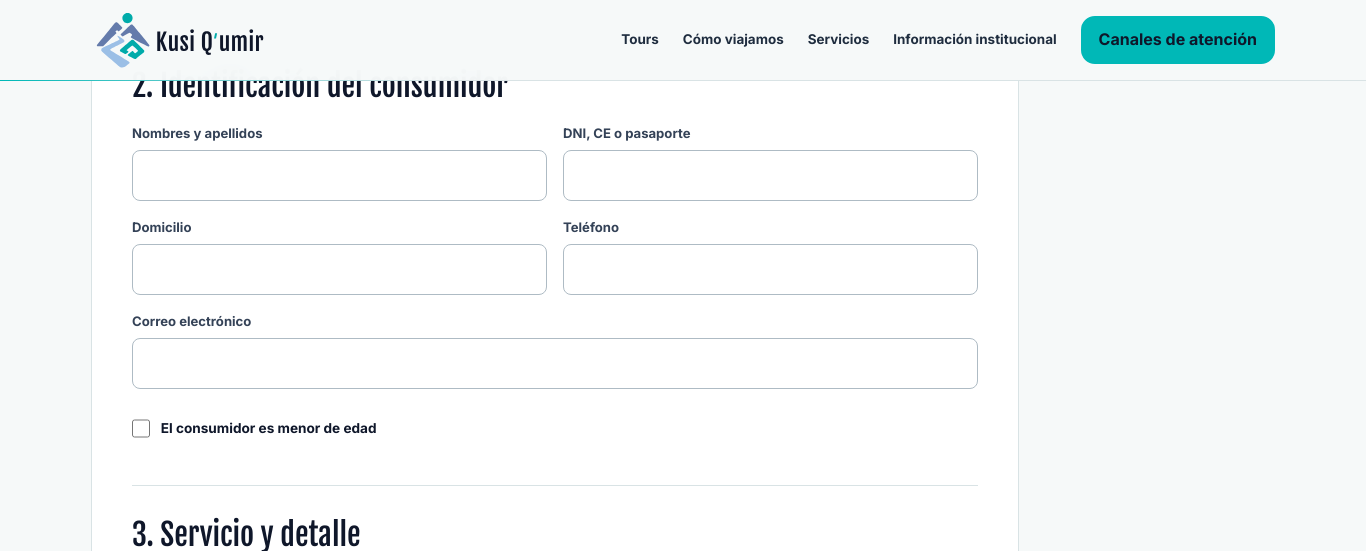
ClaimsComponent › requires a guardian when the consumer is a minor
(page scrolled)
Click the checkbox named "menorEdad" at (141, 428), box left=132, top=419, right=150, bottom=438
(page scrolled)
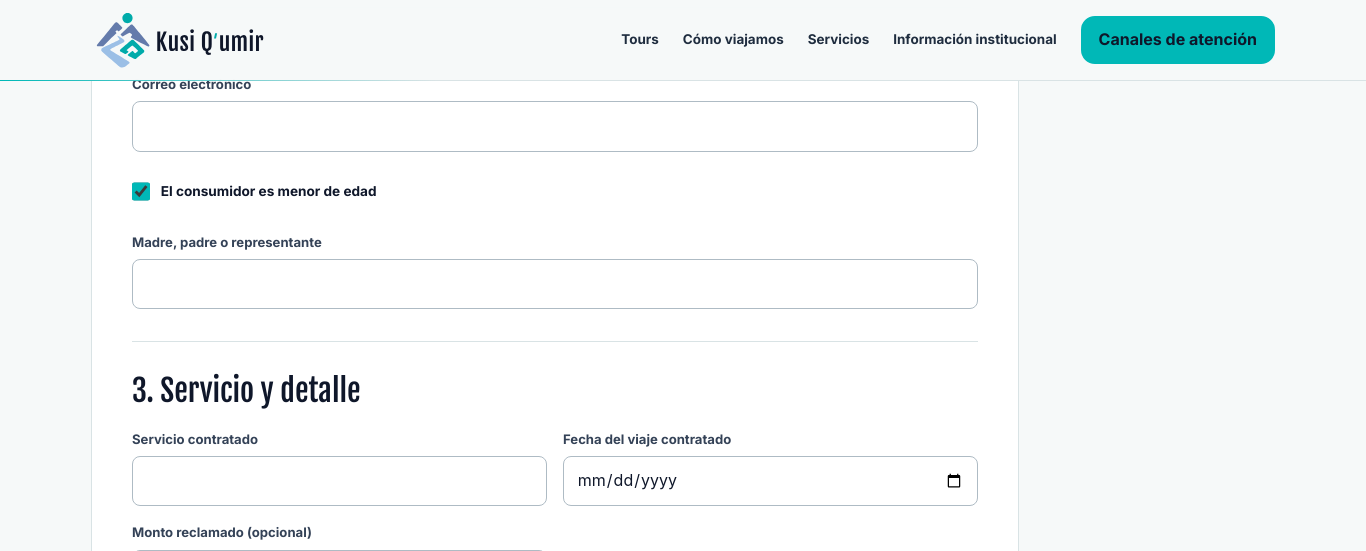
expect the field named "apoderado" is shown: met, box left=132, top=259, right=978, bottom=309
Submit the form
(page scrolled)
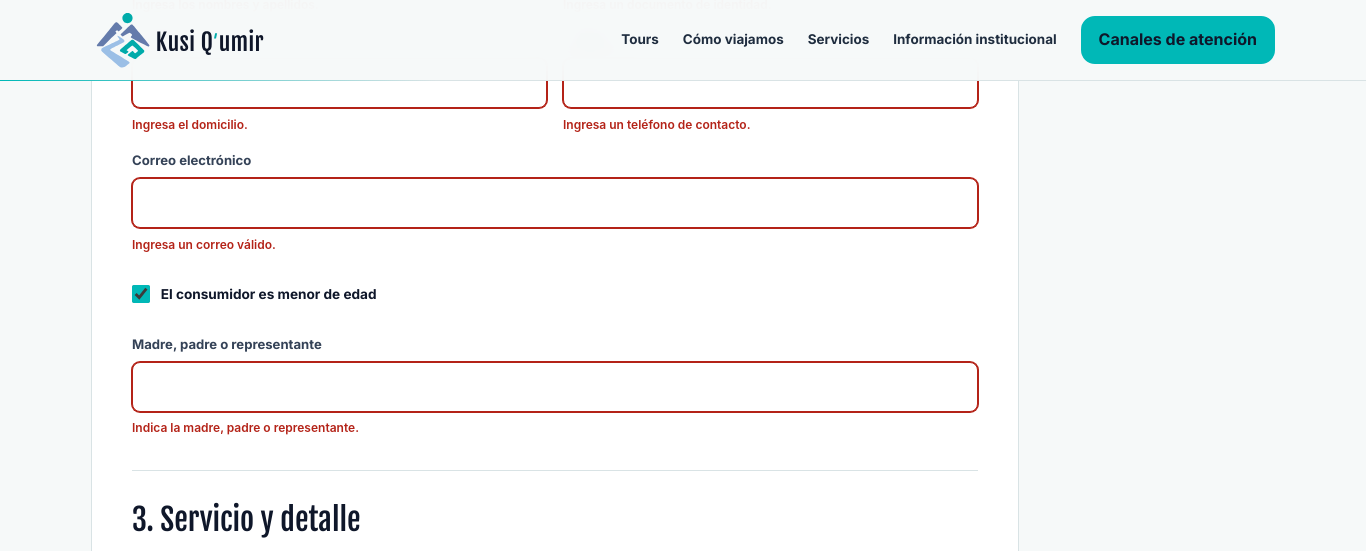
expect the text with id "claim-guardian-error" shows "representante": met, box left=132, top=420, right=359, bottom=435
